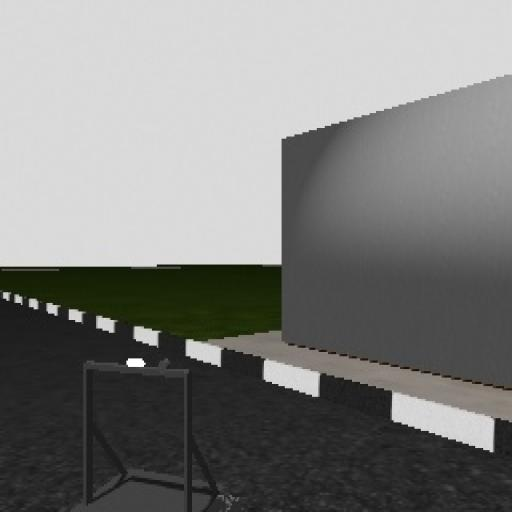huskya200: (67, 345, 239, 512)
